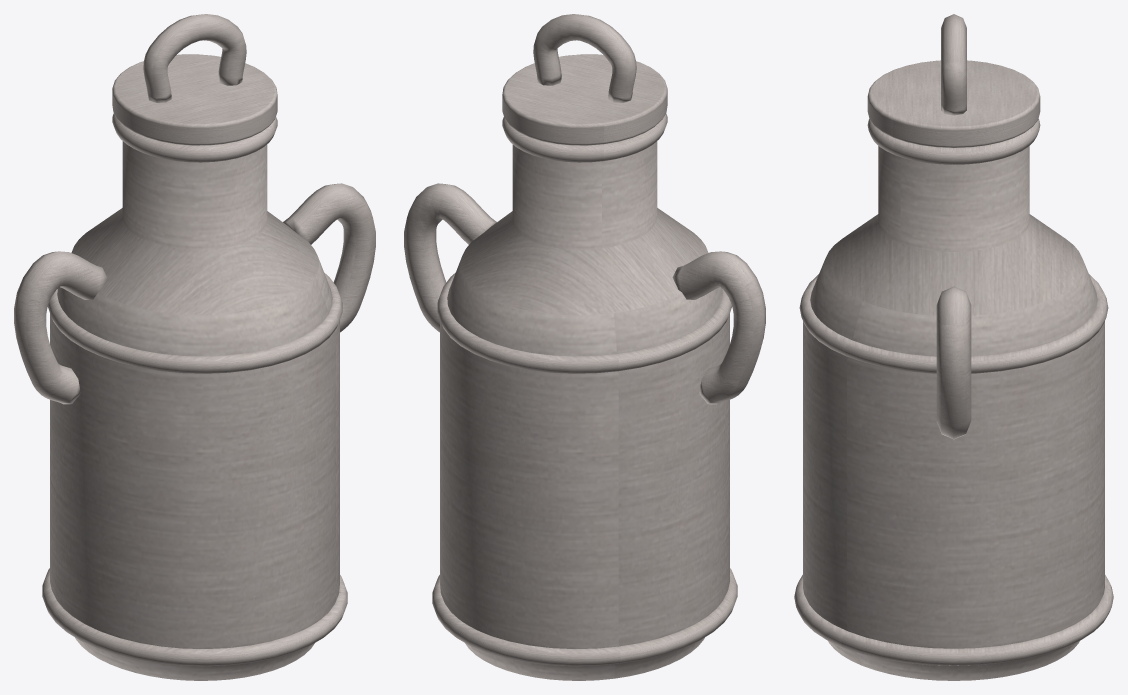
The model's file is SM_InteriorAdditions_MilkCan.fbx.
3 renders of one model, left to right at view 1: azimuth 30°, elevation 25°; view 2: azimuth 150°, elevation 25°; view 3: azimuth 270°, elevation 25°, orthographic.
Visible parts, largest first — view 1: SM_InteriorAdditions_MilkCan; view 2: SM_InteriorAdditions_MilkCan; view 3: SM_InteriorAdditions_MilkCan.
Part boxes in pixels (left/top/right/bottom): SM_InteriorAdditions_MilkCan: left=14, top=14, right=375, bottom=680; SM_InteriorAdditions_MilkCan: left=404, top=14, right=765, bottom=680; SM_InteriorAdditions_MilkCan: left=794, top=14, right=1113, bottom=680.
Size of what is drawn, in the model's own units: 36.26 by 28.12 by 59.21.
